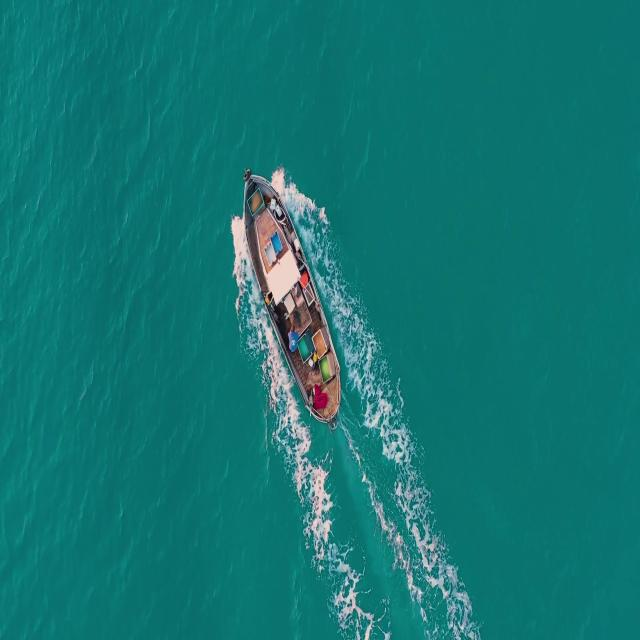ship: (234, 167, 347, 425)
